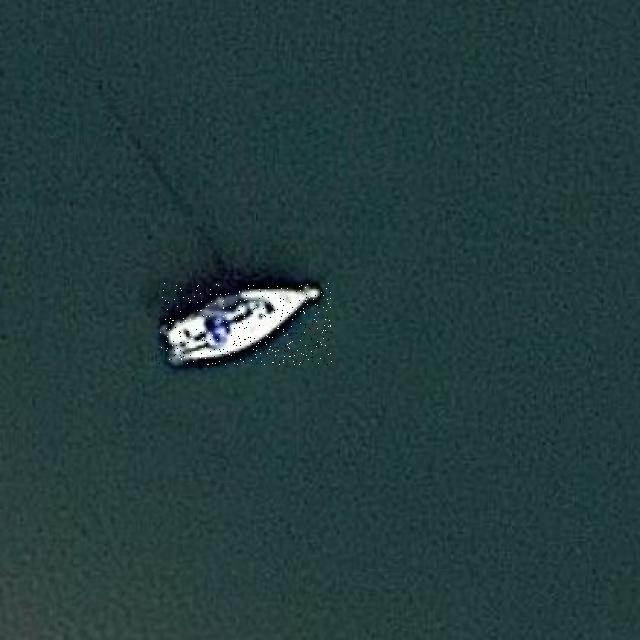boat: (159, 283, 332, 365)
